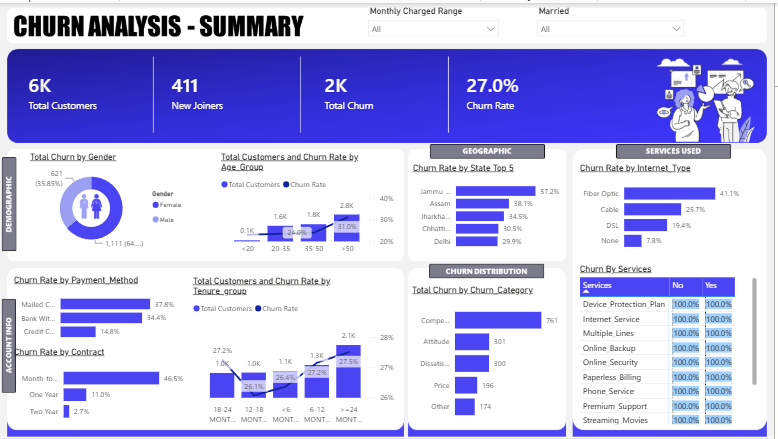

Layout of this report page (visuals, bound fields, positions):
{"tool":"powerbi","page":{"name":"Summary","canvas":[1280,720],"ordinal":0},"visuals":[{"type":"cardVisual","fields":{"Data":["Tbl_Measures.New Joiners"]},"box":[254.2,82.9,229,126.2],"z":0},{"type":"cardVisual","fields":{"Data":["Tbl_Measures.Total Churn"]},"box":[508.4,82.9,223.5,126.2],"z":1000},{"type":"cardVisual","fields":{"Data":["Tbl_Measures.Churn Rate"]},"box":[742.8,82.9,210.9,126.2],"z":2000},{"type":"cardVisual","fields":{"Data":["Tbl_Measures.Total Customers"]},"box":[18,82.9,219.9,126.2],"z":3000},{"type":"donutChart","fields":{"Category":["prod_Churn.Gender"],"Y":["Tbl_Measures.Total Churn"]},"box":[43.9,247.2,270.3,168.7],"z":4000},{"type":"lineStackedColumnComboChart","fields":{"Category":["mapping_age_grp.Age_Group"],"Y":["Tbl_Measures.Total Customers"],"Y2":["Tbl_Measures.Churn Rate"]},"box":[360.4,247.2,295.7,177.9],"z":5000},{"type":"clusteredBarChart","fields":{"Category":["prod_Churn.Payment_Method"],"Y":["Tbl_Measures.Churn Rate"]},"box":[18.5,450.5,274.9,117.8],"z":6000},{"type":"clusteredBarChart","fields":{"Category":["prod_Churn.Contract"],"Y":["Tbl_Measures.Churn Rate"]},"box":[18.5,568.4,295.7,134],"z":7000},{"type":"lineStackedColumnComboChart","fields":{"Category":["Mapping_tenuregrp.Tenure_group"],"Y":["Tbl_Measures.Total Customers"],"Y2":["Tbl_Measures.Churn Rate"]},"box":[313.7,450.7,342.5,252.4],"z":8000},{"type":"clusteredBarChart","title":"Churn Rate by State Top 5","fields":{"Category":["prod_Churn.State"],"Y":["Tbl_Measures.Churn Rate"]},"box":[677.9,265,252.4,151.4],"z":9000},{"type":"clusteredBarChart","fields":{"Category":["prod_Churn.Churn_Category"],"Y":["Tbl_Measures.Total Churn"]},"box":[677,466.7,251.8,235.7],"z":10000},{"type":"clusteredBarChart","fields":{"Category":["prod_Churn.Internet_Type"],"Y":["Tbl_Measures.Churn Rate"]},"box":[953.7,265,302.9,155],"z":11000},{"type":"pivotTable","title":"Churn By Services","fields":{"Rows":["prod_services.Services"],"Columns":["prod_services.Status"],"Values":["Sum(prod_Churn.Churn_Status)"]},"box":[954.2,432.1,302.7,270.3],"z":12000},{"type":"slicer","fields":{"Values":["prod_Churn.Monthly Charged Status"]},"box":[598.4,0,235.7,62.4],"z":13000},{"type":"slicer","fields":{"Values":["prod_services.Married"]},"box":[878,0,263.4,62.4],"z":14000},{"type":"image","box":[124.8,305,53.1,62.4],"z":14001}]}

Visuals, with their boxes in screenshot pixels (x1, y1, x2, y2), scaled from the page's 1280x720 canvas onto the 778x439 screenshot:
cardVisual - Tbl_Measures.New Joiners: 155,51,294,127
cardVisual - Tbl_Measures.Total Churn: 309,51,445,127
cardVisual - Tbl_Measures.Churn Rate: 451,51,580,127
cardVisual - Tbl_Measures.Total Customers: 11,51,145,127
donutChart - prod_Churn.Gender x Tbl_Measures.Total Churn: 27,151,191,254
lineStackedColumnComboChart - mapping_age_grp.Age_Group x Tbl_Measures.Total Customers: 219,151,399,259
clusteredBarChart - prod_Churn.Payment_Method x Tbl_Measures.Churn Rate: 11,275,178,347
clusteredBarChart - prod_Churn.Contract x Tbl_Measures.Churn Rate: 11,347,191,428
lineStackedColumnComboChart - Mapping_tenuregrp.Tenure_group x Tbl_Measures.Total Customers: 191,275,399,429
"Churn Rate by State Top 5" clusteredBarChart: 412,162,565,254
clusteredBarChart - prod_Churn.Churn_Category x Tbl_Measures.Total Churn: 411,285,565,428
clusteredBarChart - prod_Churn.Internet_Type x Tbl_Measures.Churn Rate: 580,162,764,256
"Churn By Services" pivotTable: 580,263,764,428
slicer - prod_Churn.Monthly Charged Status: 364,0,507,38
slicer - prod_services.Married: 534,0,694,38
image: 76,186,108,224
